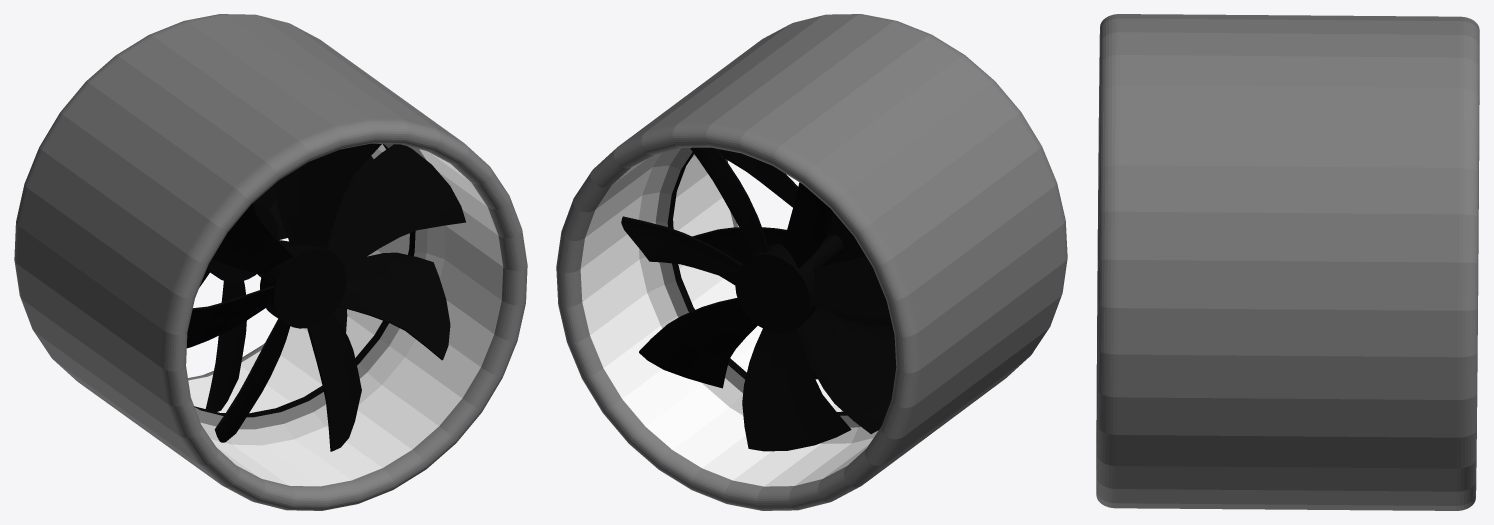
The model's file is IonFilter0.fbx.
The picture shows the model from 3 angles, left to right: view 1: azimuth 30°, elevation 25°; view 2: azimuth 150°, elevation 25°; view 3: azimuth 270°, elevation 25°; orthographic projection. The views are drawn at different scales.
Parts seen in each view (by area): view 1: IonFilter, Circle.003; view 2: IonFilter, Circle.003; view 3: IonFilter.
Boxes of the visible parts, box(x1,y1,x2,y2) form: IonFilter: box(14, 14, 527, 510); Circle.003: box(186, 143, 465, 451); IonFilter: box(556, 14, 1067, 510); Circle.003: box(621, 147, 896, 451); IonFilter: box(1096, 14, 1479, 510).
Size of the model in its own units: 6972 by 7007 by 5411.
